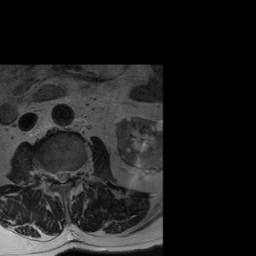CCS_stenosis: (60, 164, 66, 189)
LFS_normal: (71, 163, 78, 183)
LLS_normal: (66, 164, 72, 186)
RFS_normal: (48, 163, 53, 188)
RLS_normal: (53, 164, 60, 185)
